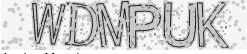D: (65, 2, 98, 48)
K: (196, 1, 230, 49)
M: (96, 1, 131, 48)
P: (129, 5, 162, 50)
U: (162, 1, 197, 49)
W: (31, 2, 66, 47)
